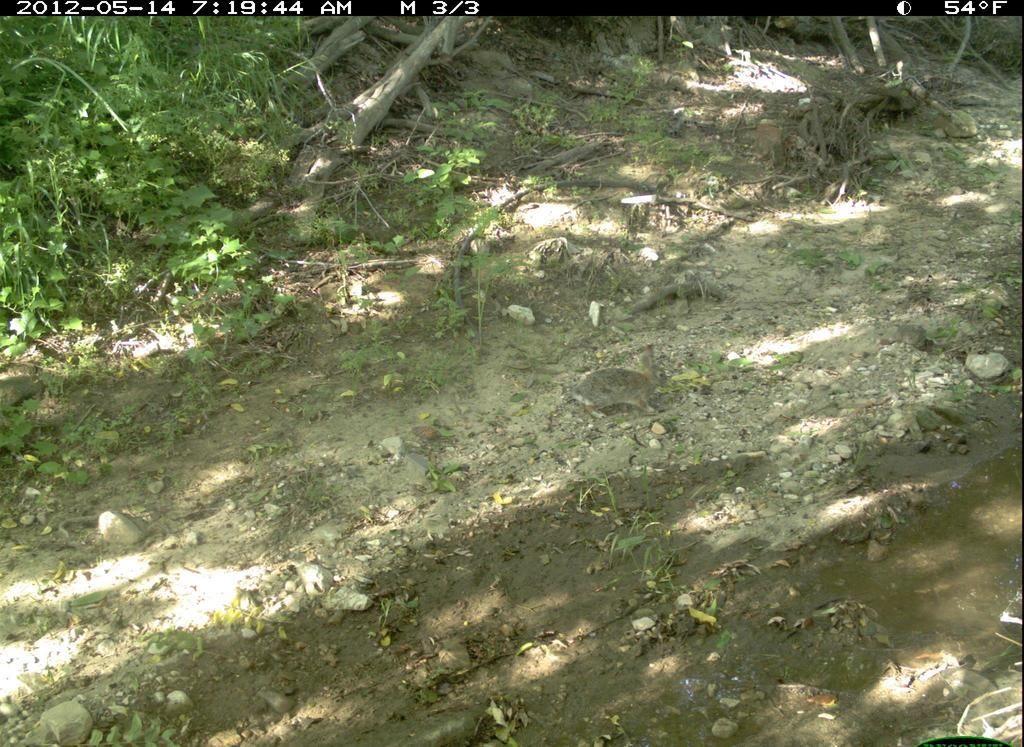rabbit: (571, 342, 685, 422)
